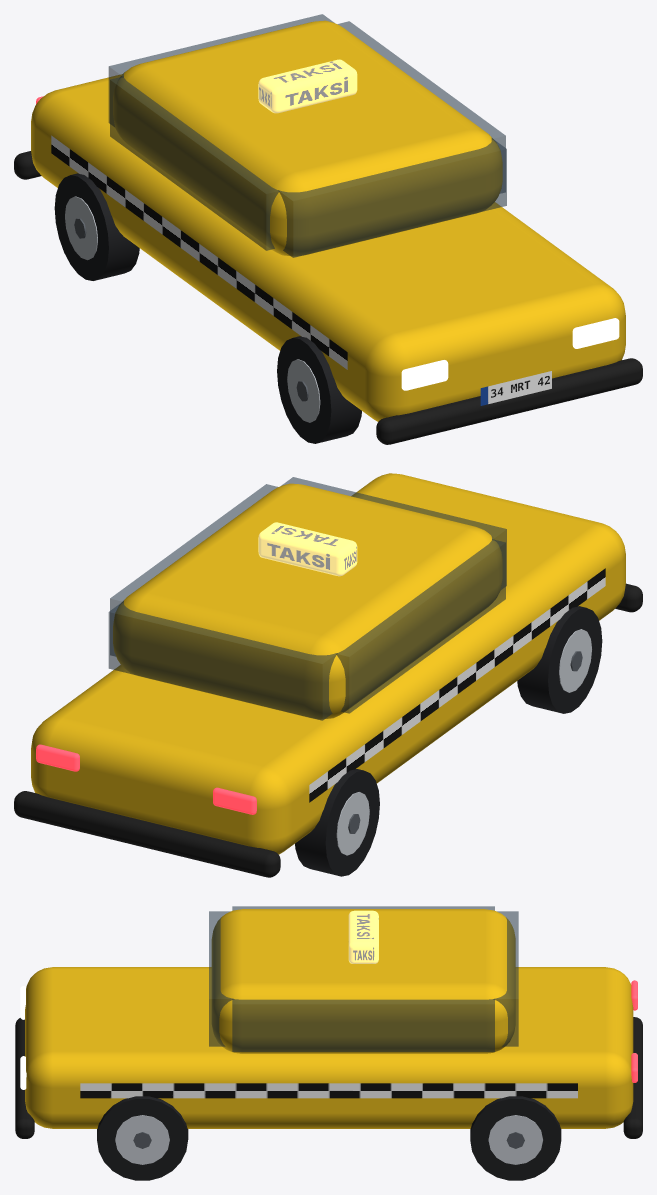
File: taksi.glb
3 renders of one model, top to bottom at view 1: azimuth 30°, elevation 25°; view 2: azimuth 150°, elevation 25°; view 3: azimuth 270°, elevation 25°, orthographic. The views are drawn at different scales.
Visible parts, largest first — view 1: taksi, teker (×2); view 2: taksi, teker (×2); view 3: taksi, teker (×2).
Boxes of the visible parts, x1=… form: taksi: x1=14, y1=14, x2=642, y2=444; teker (×2): x1=54, y1=173, x2=361, y2=443; taksi: x1=14, y1=473, x2=642, y2=877; teker (×2): x1=295, y1=606, x2=602, y2=876; taksi: x1=15, y1=906, x2=642, y2=1138; teker (×2): x1=97, y1=1096, x2=561, y2=1180.
Size of the model in its own units: 1.93 by 1.59 by 4.55.
11 materials, 3 textured.
